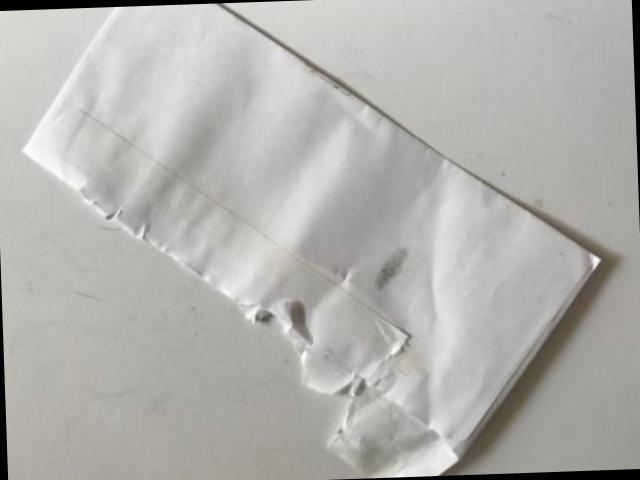cardboard paper: (23, 3, 596, 478)
